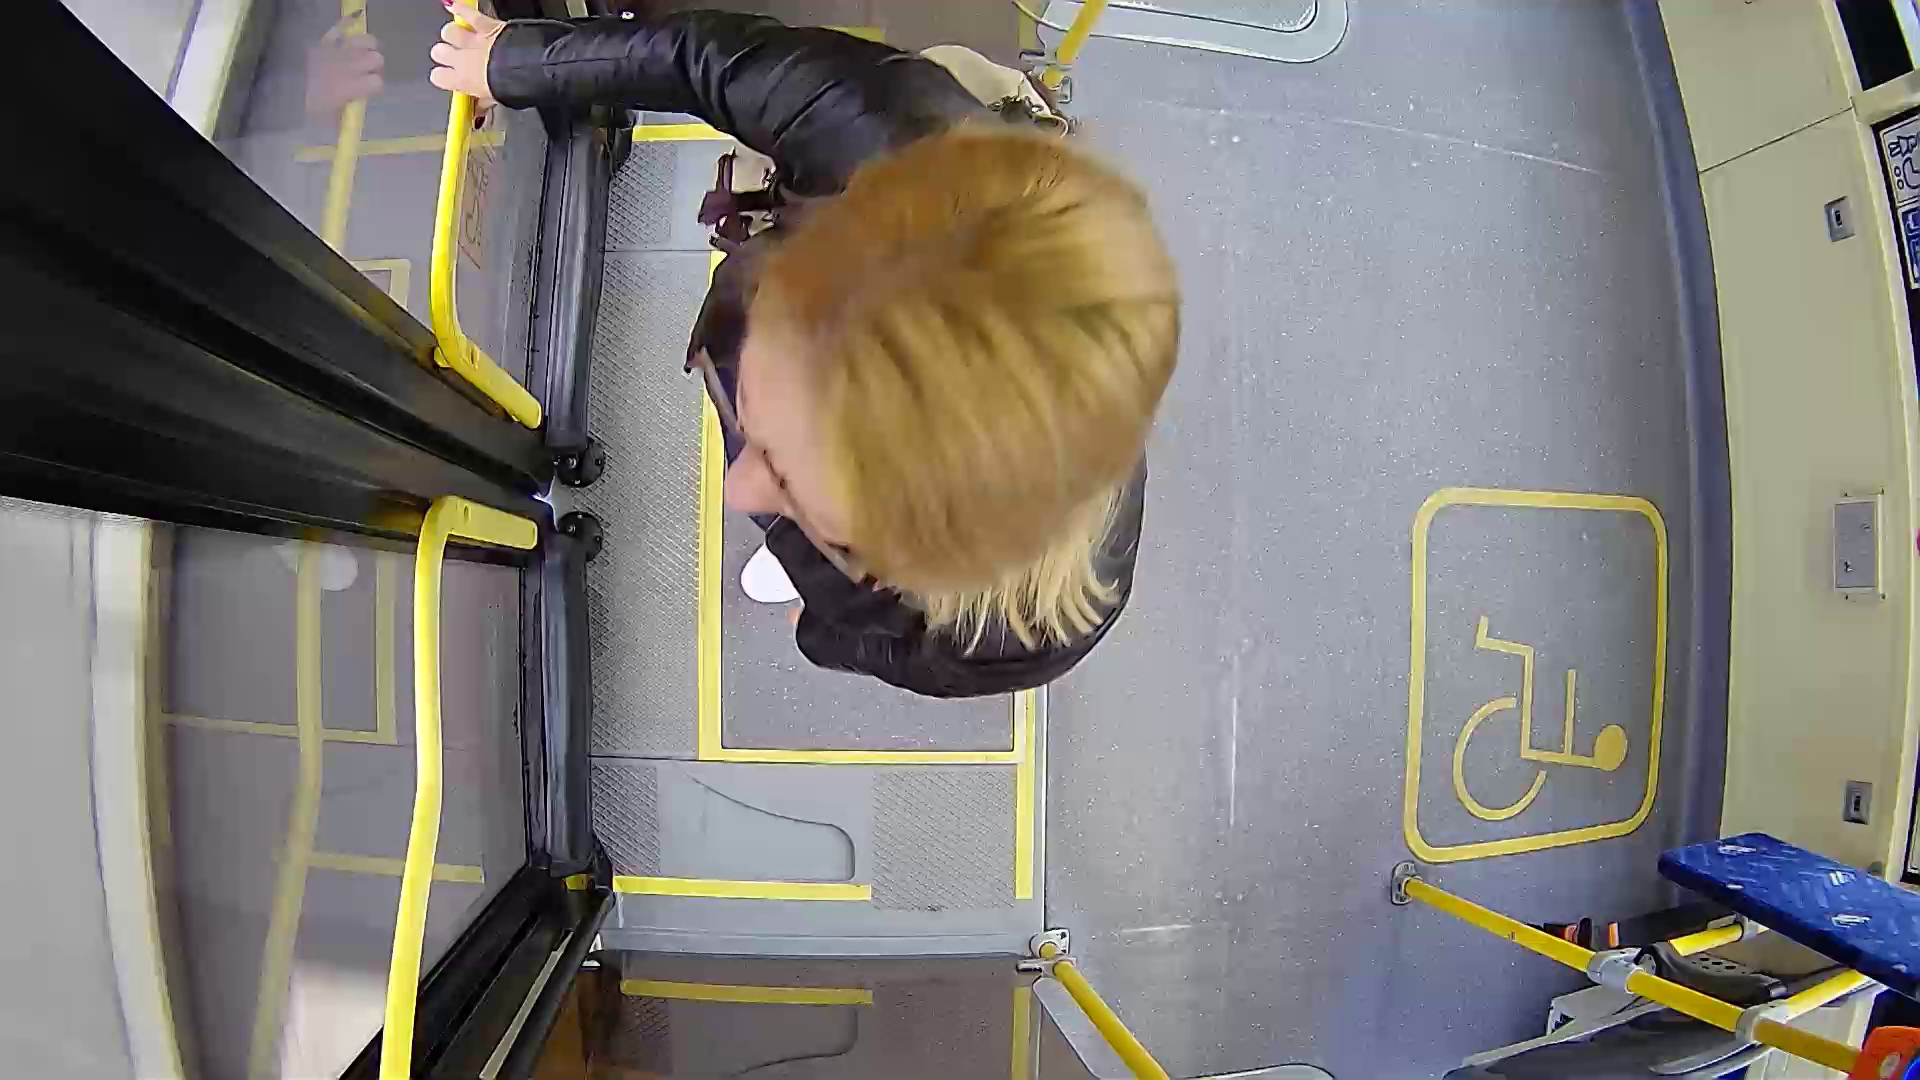person: (430, 18, 1200, 713)
